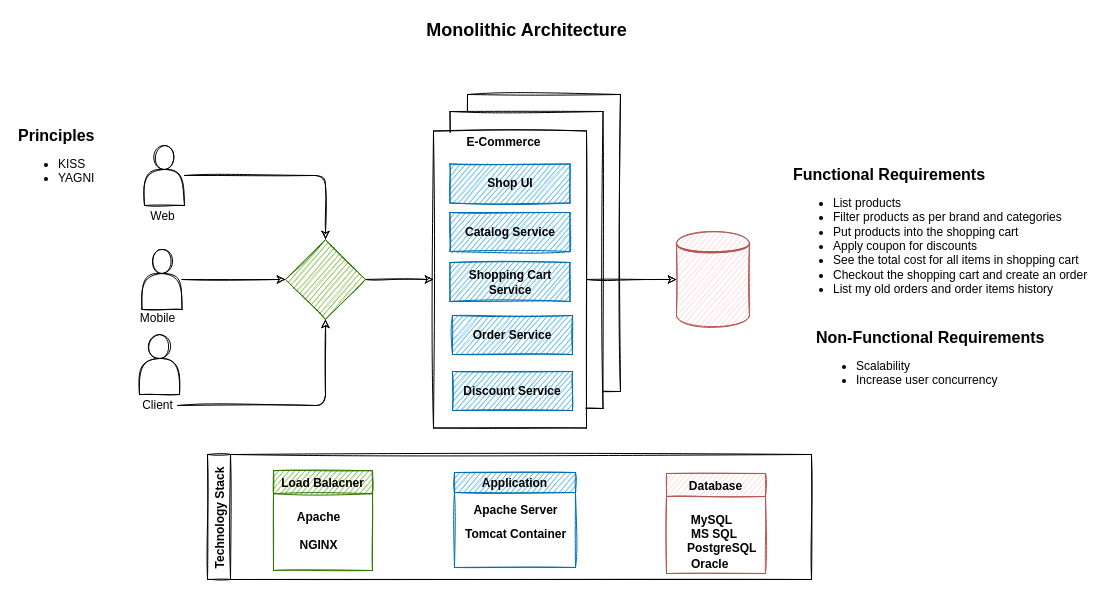
Image size: 1112x597. Some labels were removed from this diagram. Each missing label, with the centre of its shape:
"Load Balancer" goes at pixel 325 279.
"RDBMS" goes at pixel 713 279.
